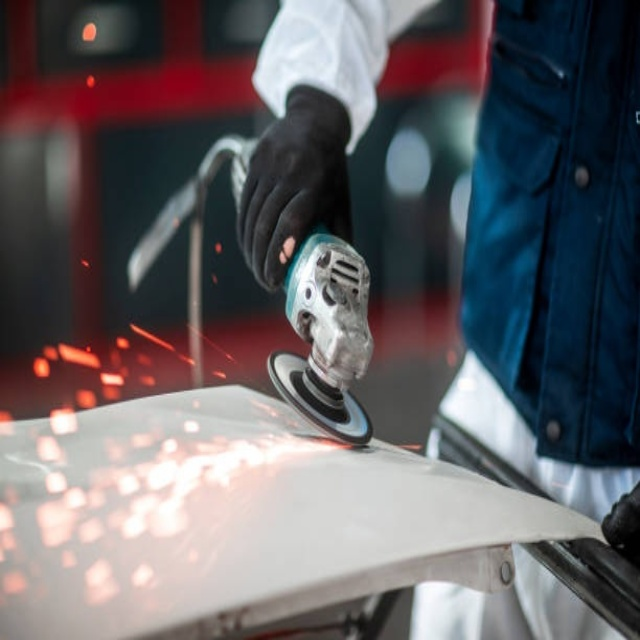Guantes: (234, 83, 359, 300)
